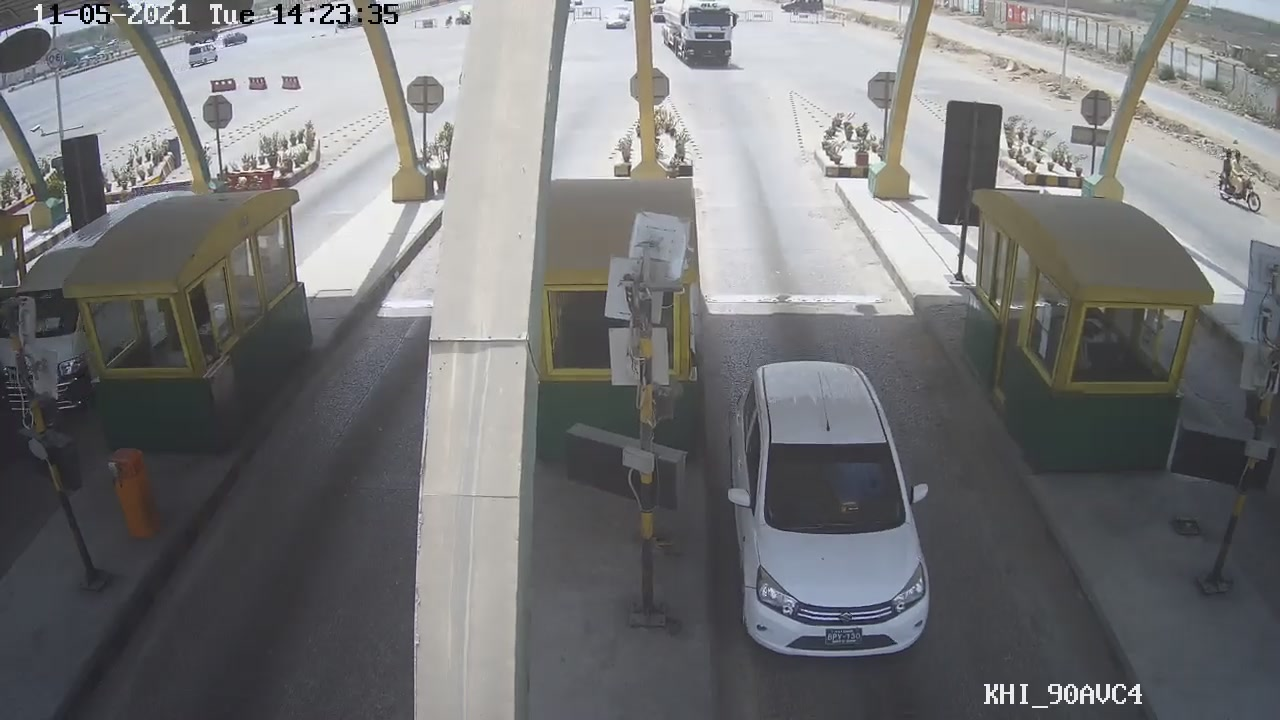F1: (723, 355, 940, 659)
